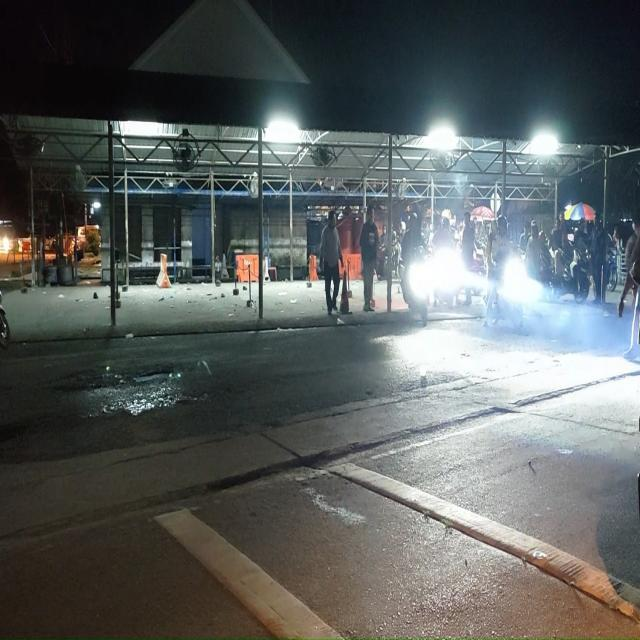Golongan II: (491, 256, 541, 330), (399, 249, 431, 326), (430, 248, 467, 307), (553, 248, 590, 304), (605, 250, 618, 292)
